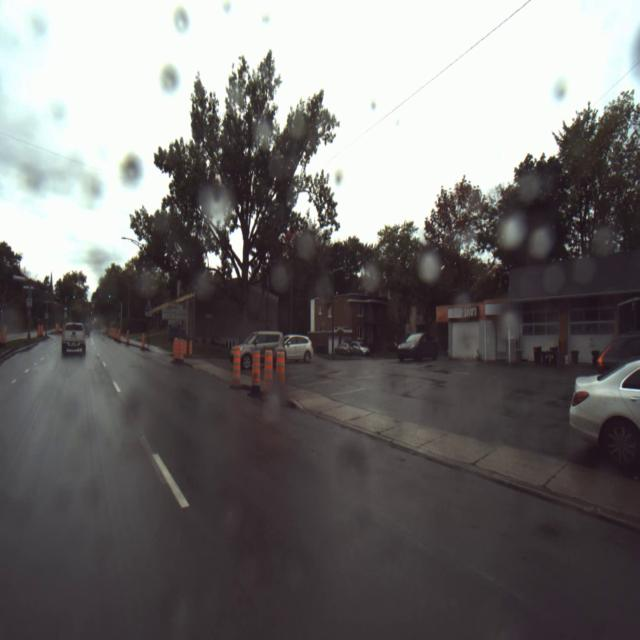car: (569, 359, 640, 465), (230, 331, 283, 370), (594, 333, 640, 372), (398, 332, 437, 364), (62, 321, 86, 359), (284, 334, 314, 364), (351, 339, 369, 357), (334, 342, 350, 356)
